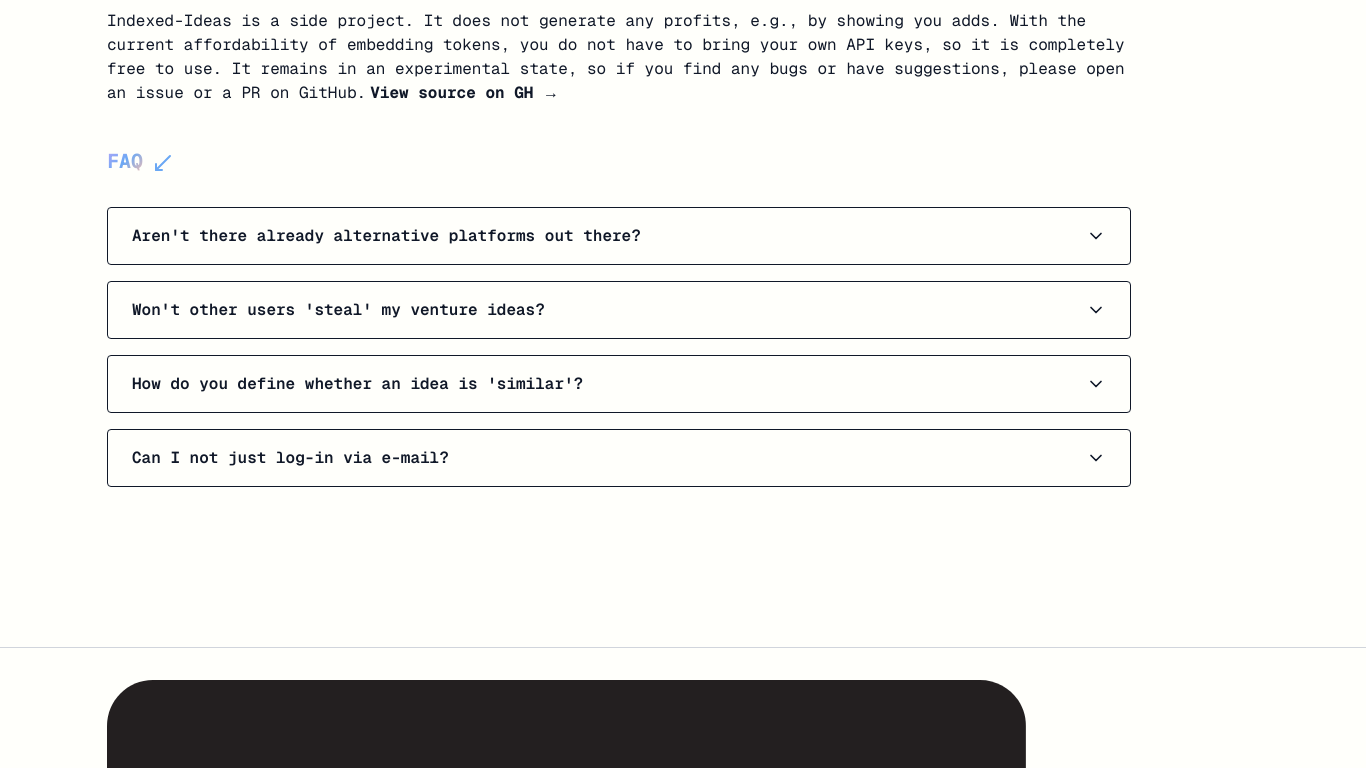
Test: LandingPage › should expand and collapse FAQ items
(page scrolled)
expect the text "There are 4 different levels for you to configure" is not shown: met
// Click to expand
Click the button "How do you define whether an idea is 'similar'?": x=358, y=384 [108,356,1130,412]
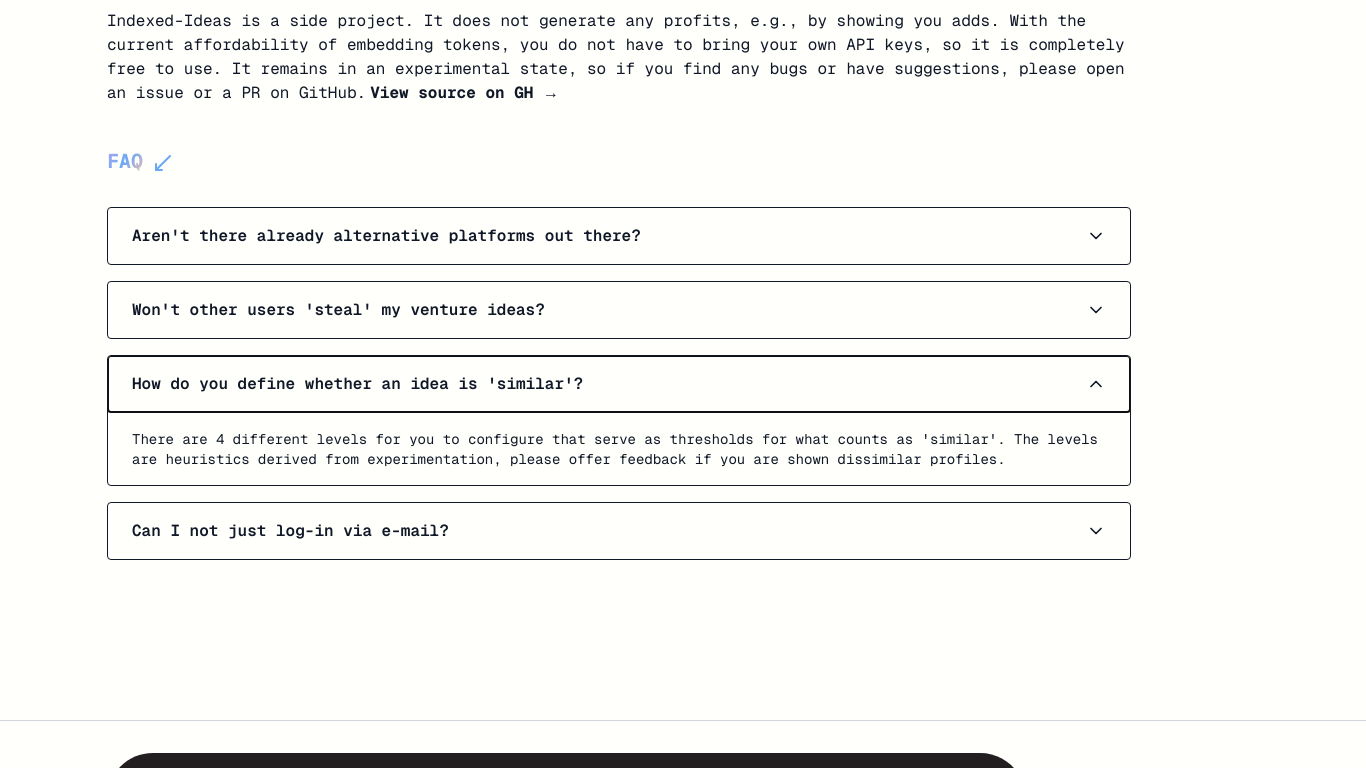
expect the text "There are 4 different levels for you to configure" is shown: met, box [132,430,1098,468]
// Click again to collapse
Click the button "How do you define whether an idea is 'similar'?": x=358, y=384 [108,356,1130,412]
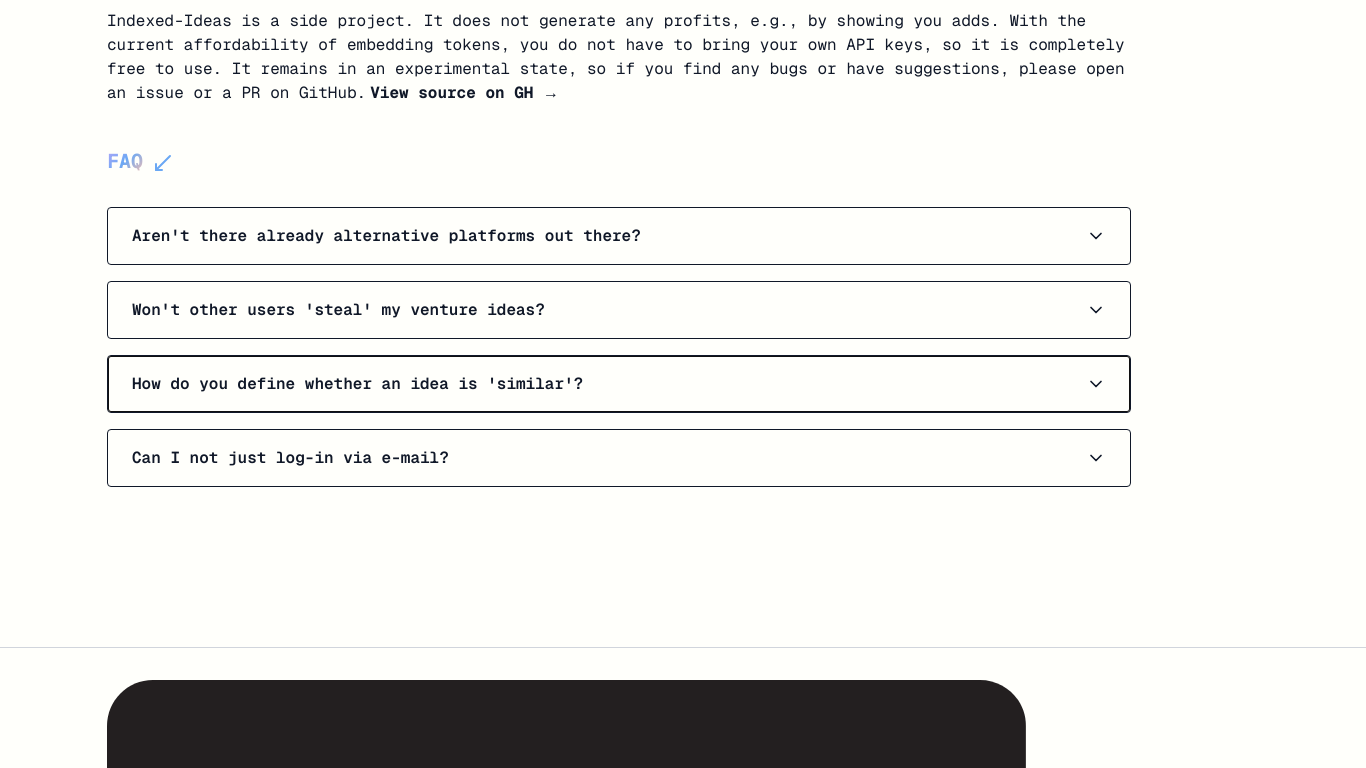
expect the text "There are 4 different levels for you to configure" is gone: met
